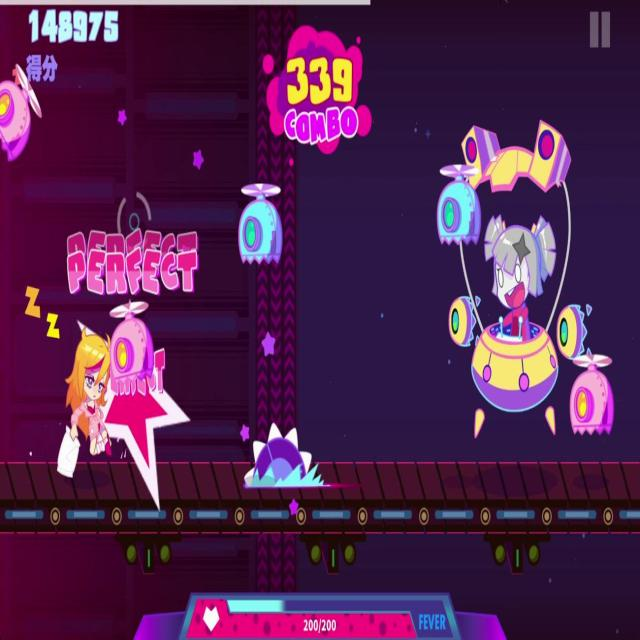ci: (243, 418, 369, 494)
jiqiqiu: (236, 174, 290, 278), (0, 56, 42, 156), (567, 351, 617, 435), (435, 160, 483, 246)
qiangboss: (444, 106, 598, 446)
